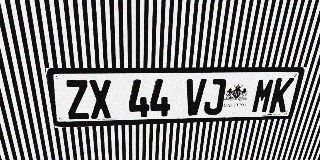4: (128, 79, 150, 118), (150, 79, 172, 117)
J: (203, 78, 227, 115)
K: (268, 78, 295, 113)
M: (250, 78, 276, 113)
V: (183, 79, 207, 116)
X: (88, 80, 112, 119)
Z: (64, 80, 90, 120)
